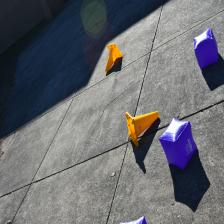cone: (125, 110, 159, 148), (105, 43, 123, 73)
cube: (159, 116, 198, 170), (194, 27, 219, 70), (120, 216, 148, 224)
